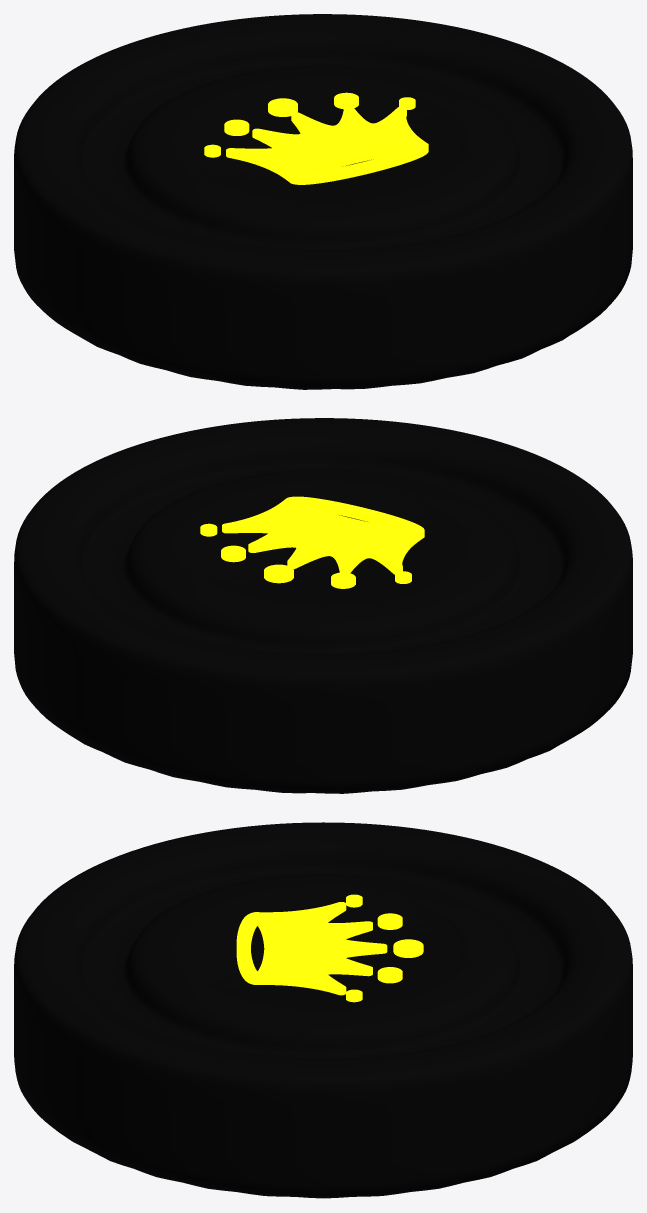
File: Checkers.fbx_black_king.fbx
3 views of the same model, one above another, from view 1: azimuth 30°, elevation 25°; view 2: azimuth 150°, elevation 25°; view 3: azimuth 270°, elevation 25° (orthographic).
Parts seen in each view (by area): view 1: black_king; view 2: black_king; view 3: black_king.
Boxes of the visible parts, x1,y1,x2,y2 form: black_king: (14, 14, 632, 389); black_king: (14, 418, 632, 793); black_king: (14, 822, 632, 1198).
Size of the model in its own units: 199 by 45.64 by 199.
